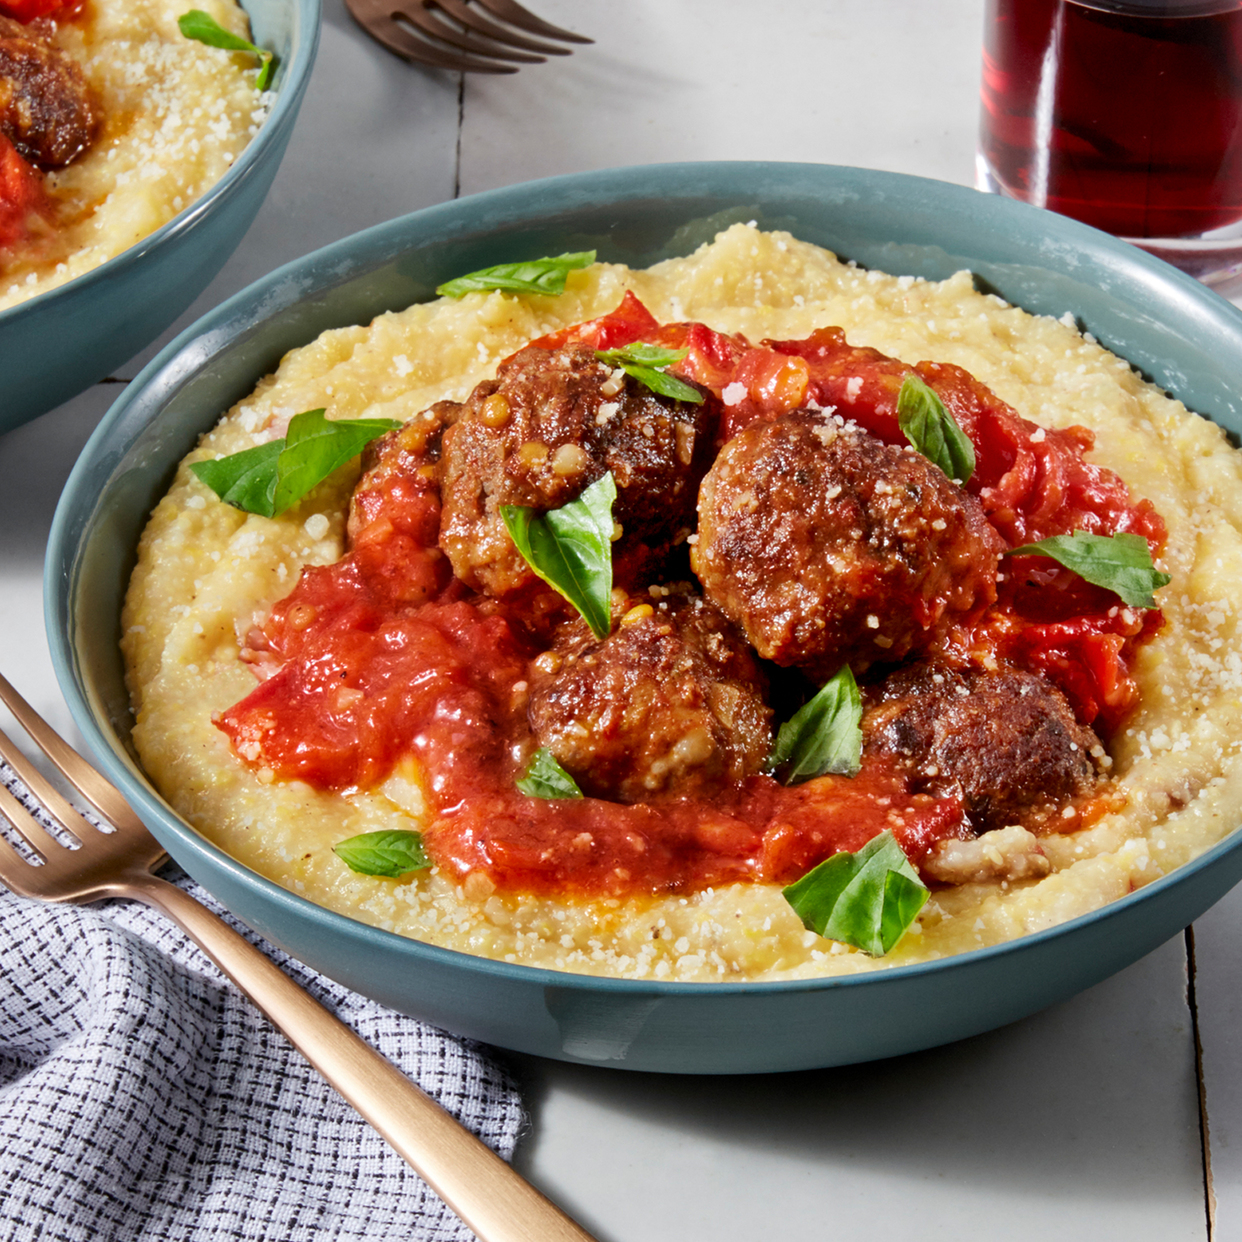meatballs: (709, 408, 972, 646), (459, 338, 690, 576), (531, 597, 780, 783), (848, 649, 1103, 806)
